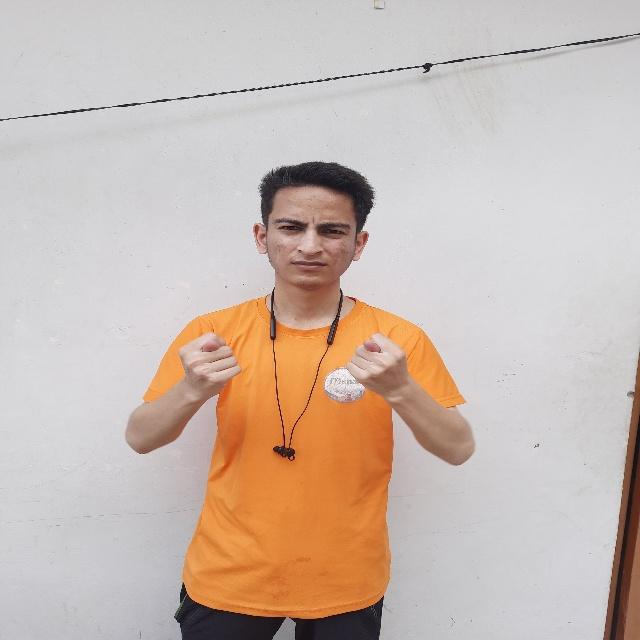Dulya: (339, 322, 419, 411), (170, 327, 249, 410)
